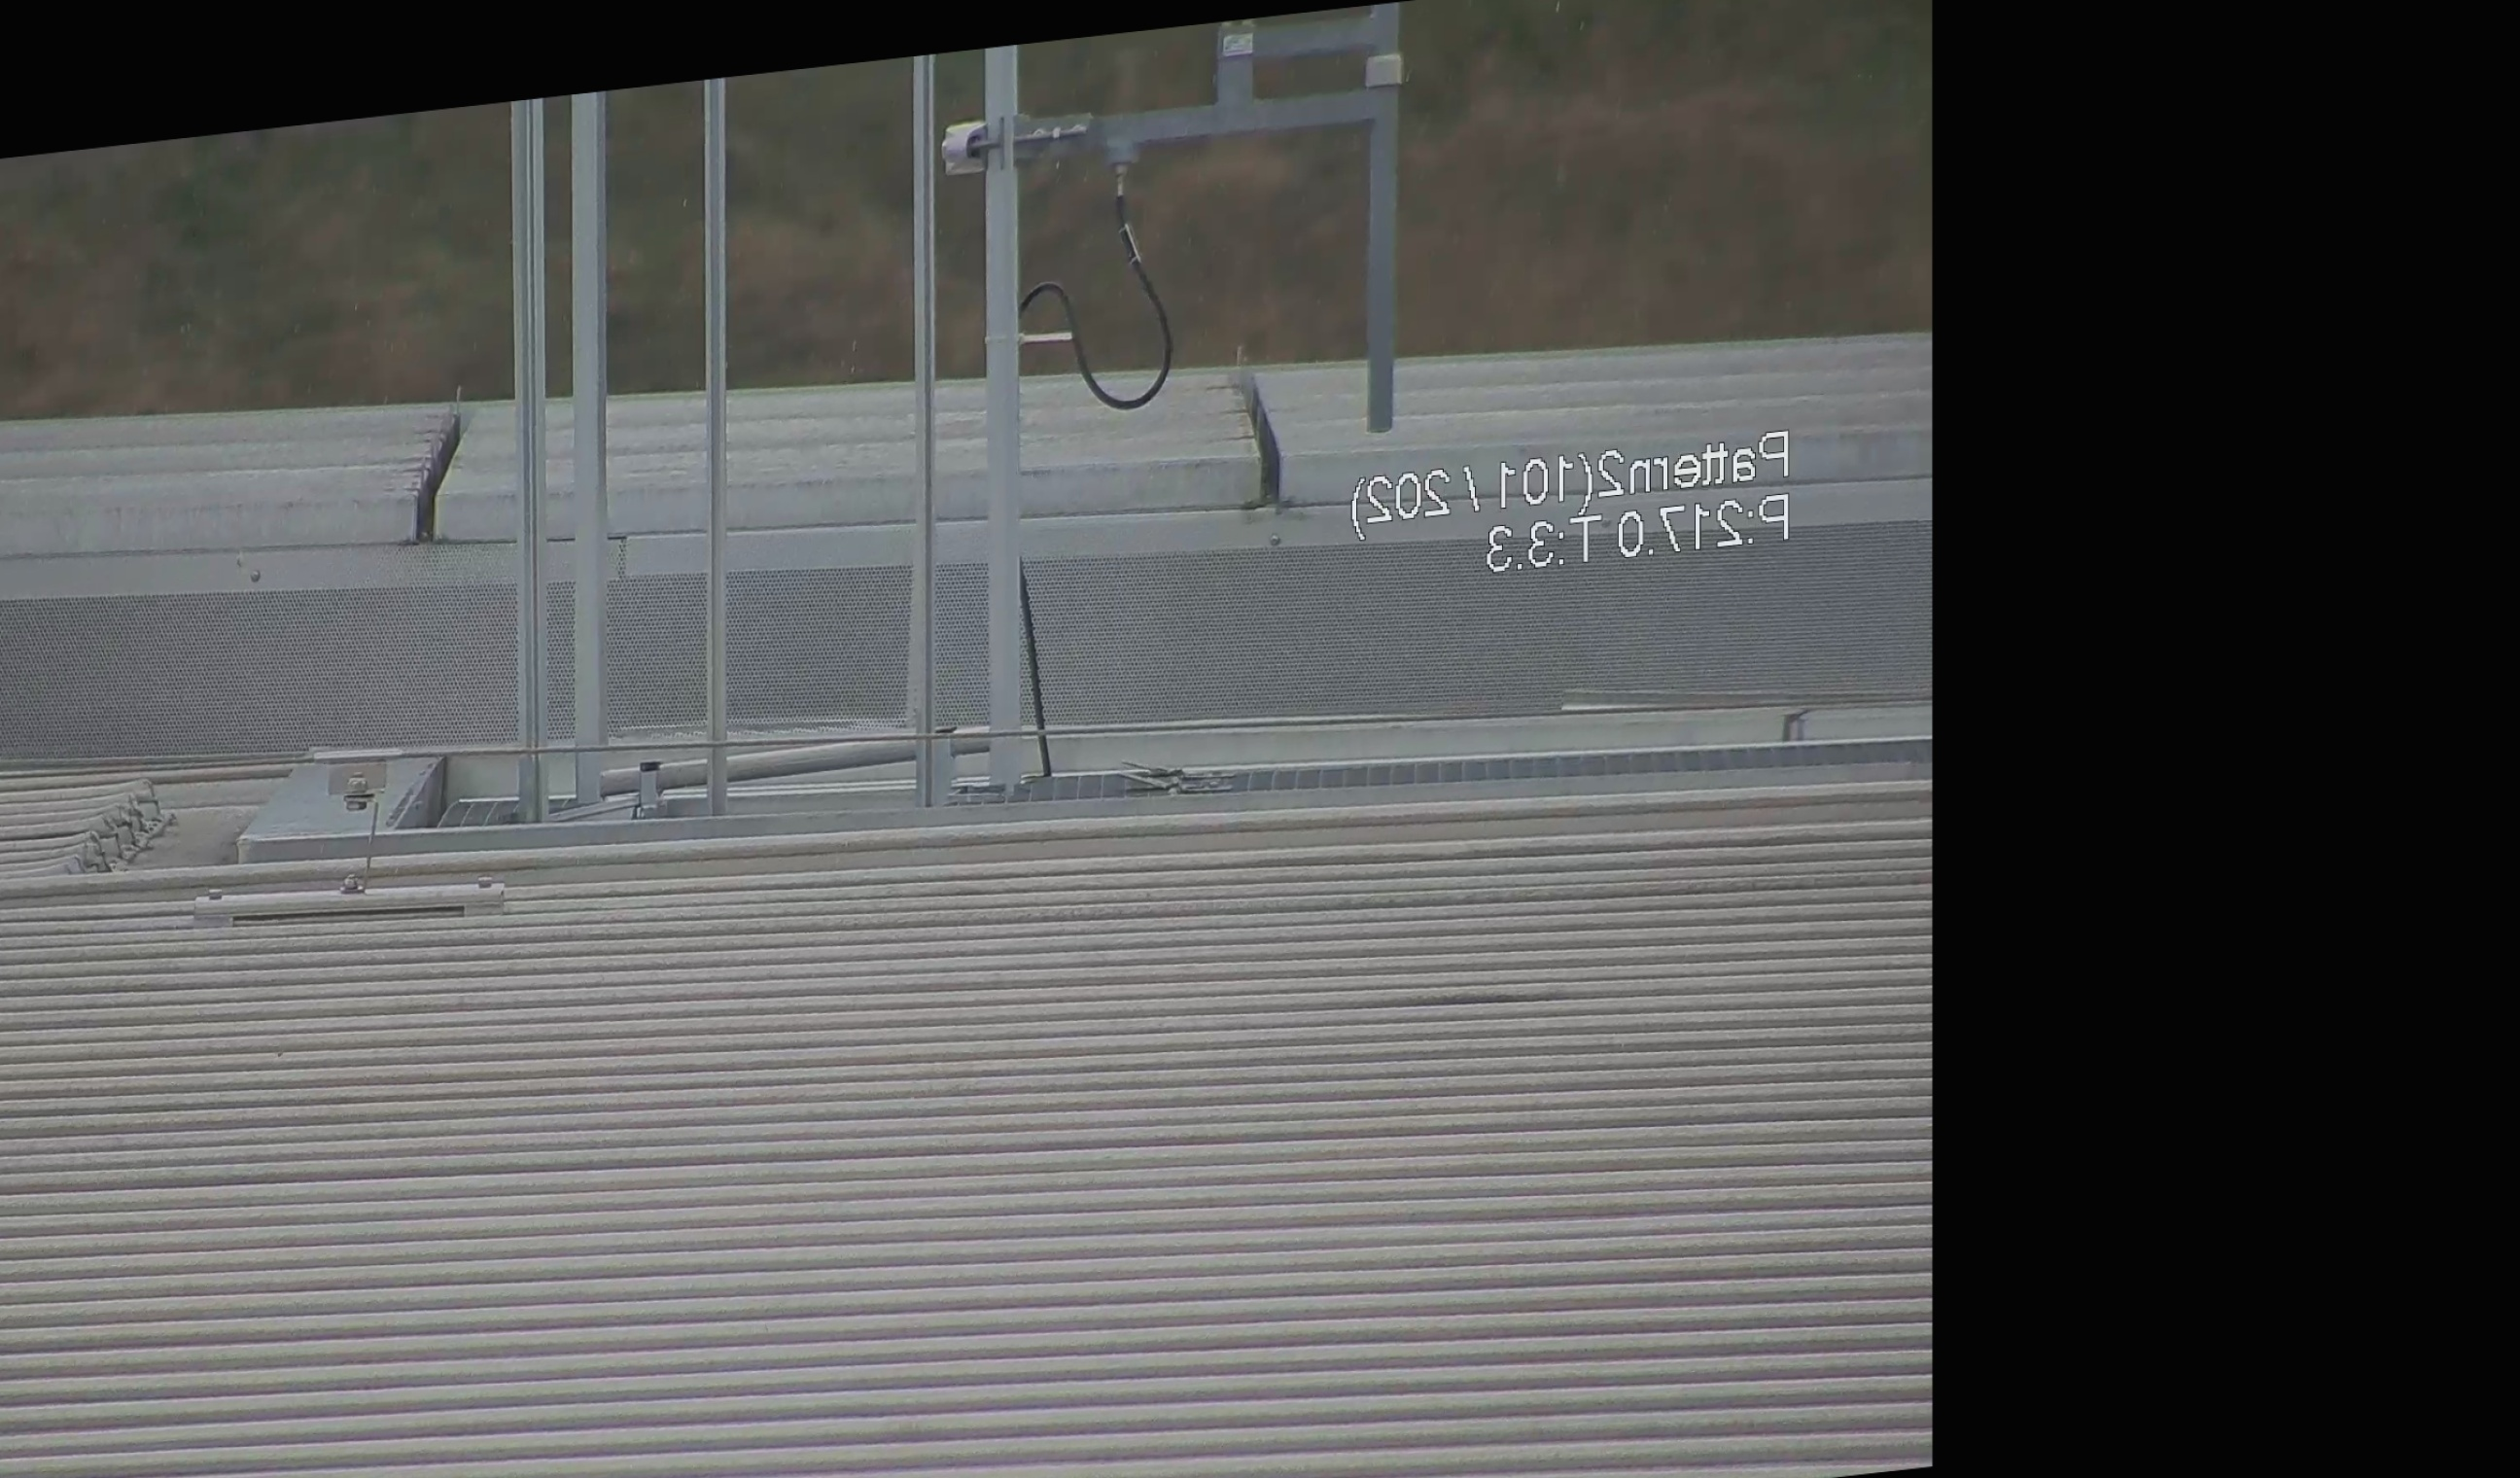Other: (389, 373, 482, 552)
